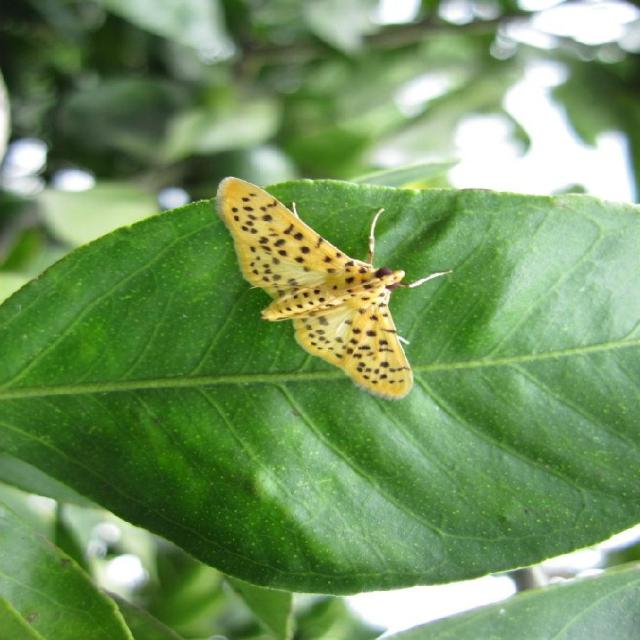peach borer: (207, 174, 432, 395)
